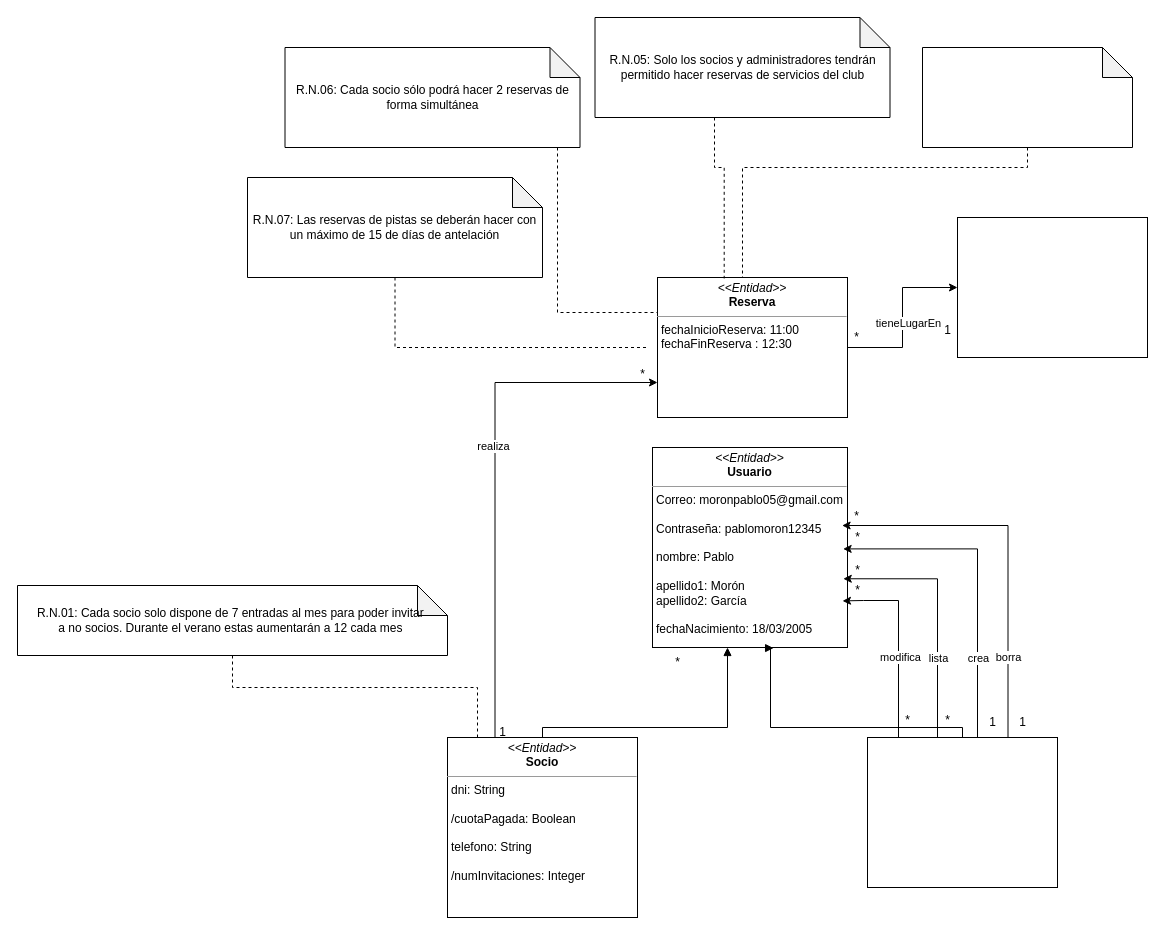
The diagram is 1165 pixels wide and 935 high, and some of its shapes have lost their labels. The centre of each missing label's shape, as x and y in pixels:
"<<Entidad>> Administrador" goes at point 962,812.
"<<Entidad>> Pista nombre: Pista 1 Tipo: Padel capacidadMax: 4" goes at point 1052,287.
"R.N.08: No se deben solapar reservas en la misma hora" goes at point 1027,97.
